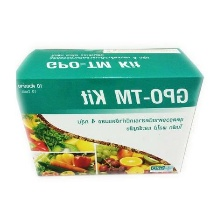book: (6, 45, 207, 182)
